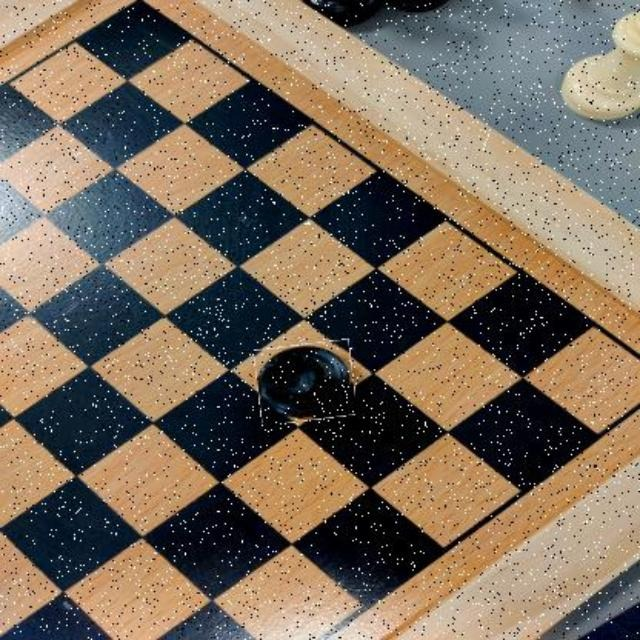black-rook: (256, 342, 356, 422)
